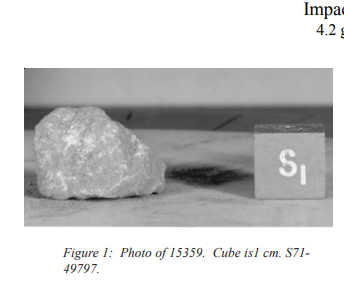Breccia: (35, 107, 177, 219)
